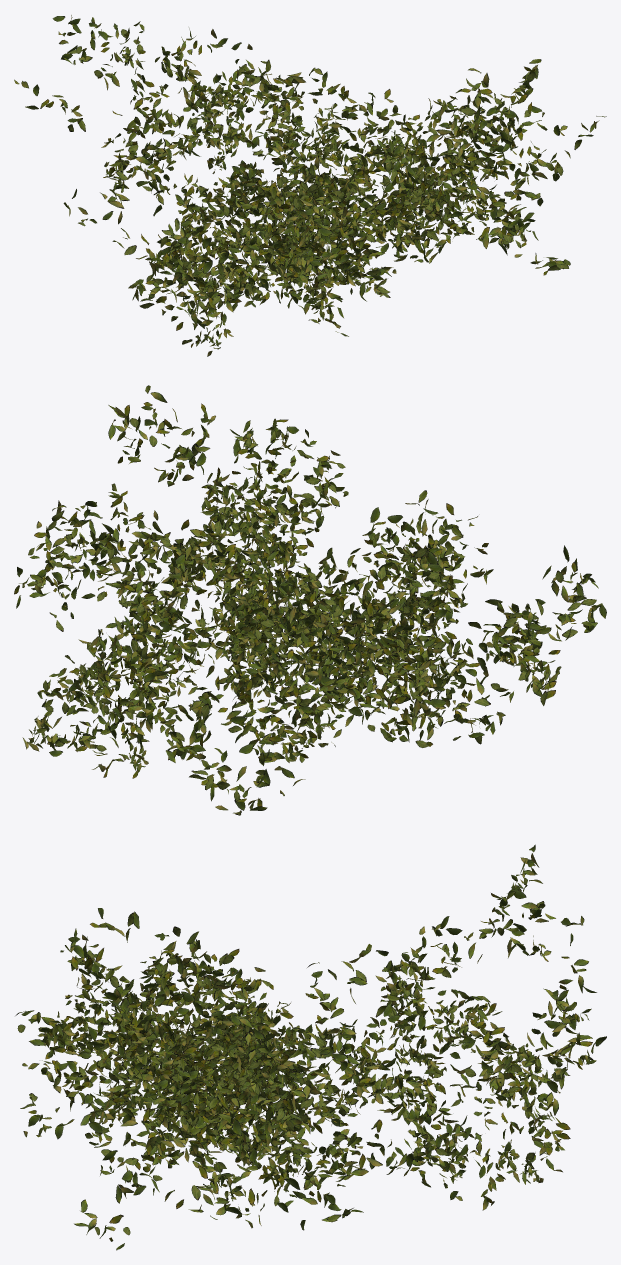
The model's file is island_tree_02_L0_hojas.glb.
3 renders of one model, top to bottom at view 1: azimuth 30°, elevation 25°; view 2: azimuth 150°, elevation 25°; view 3: azimuth 270°, elevation 25°, orthographic. The views are drawn at different scales.
Parts seen in each view (by area): view 1: island_tree_02_LOD0; view 2: island_tree_02_LOD0; view 3: island_tree_02_LOD0.
Part boxes in pixels (x1,y1,x2,y2): island_tree_02_LOD0: (14, 15, 606, 356); island_tree_02_LOD0: (14, 385, 606, 815); island_tree_02_LOD0: (15, 844, 606, 1250).
Size of the model in its own units: 3.81 by 1.76 by 4.08.
1 material, 1 textured.
